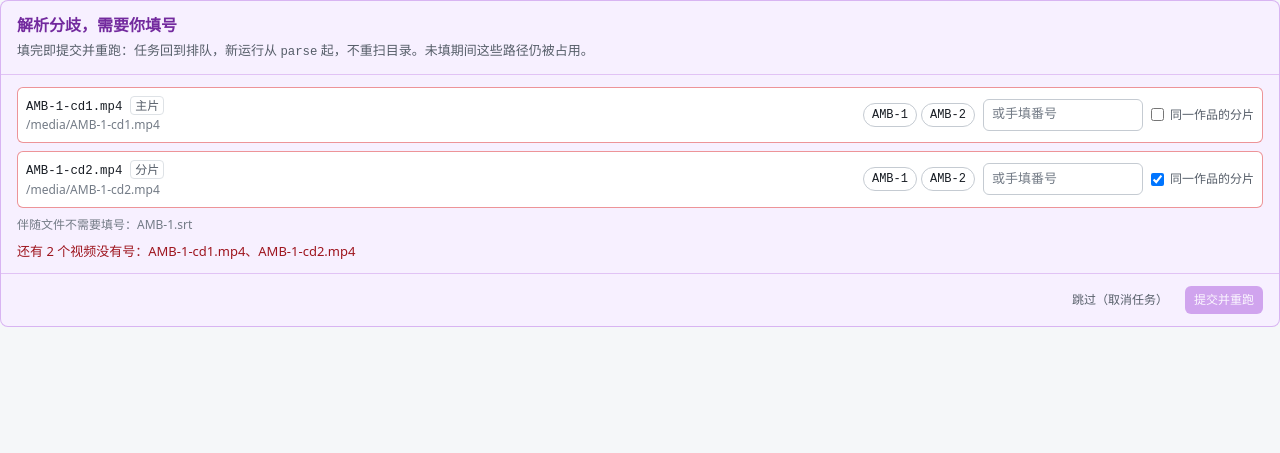
Test: NumberFillPanel › marks the rows a 422 says are still missing, and explains the failure
Type "AMB-1" into the field with placeholder "或手填番号" in the row of "/media/AMB-1-cd1.mp4" at (1063, 115), box [983,99,1143,131]
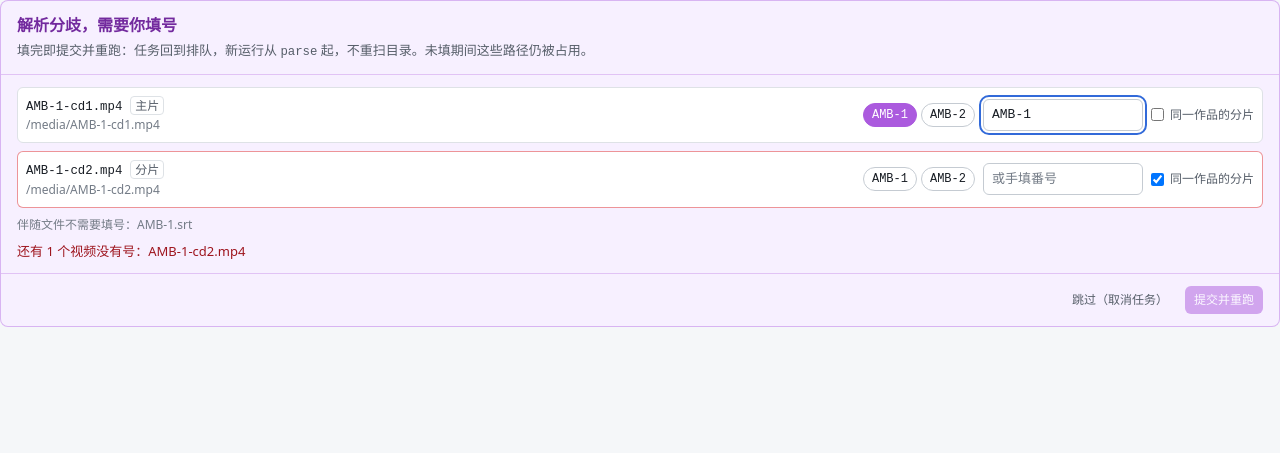
Type "AMB-1" into the field with placeholder "或手填番号" at (1063, 179), box [983,163,1143,195]
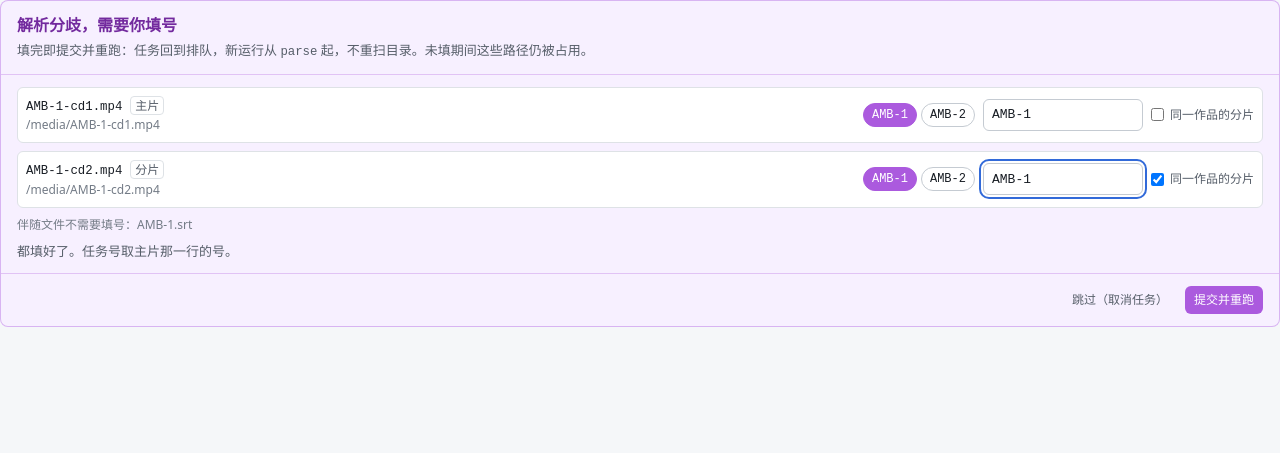
Click the button "提交并重跑" at (1224, 300), box [1185,286,1263,314]
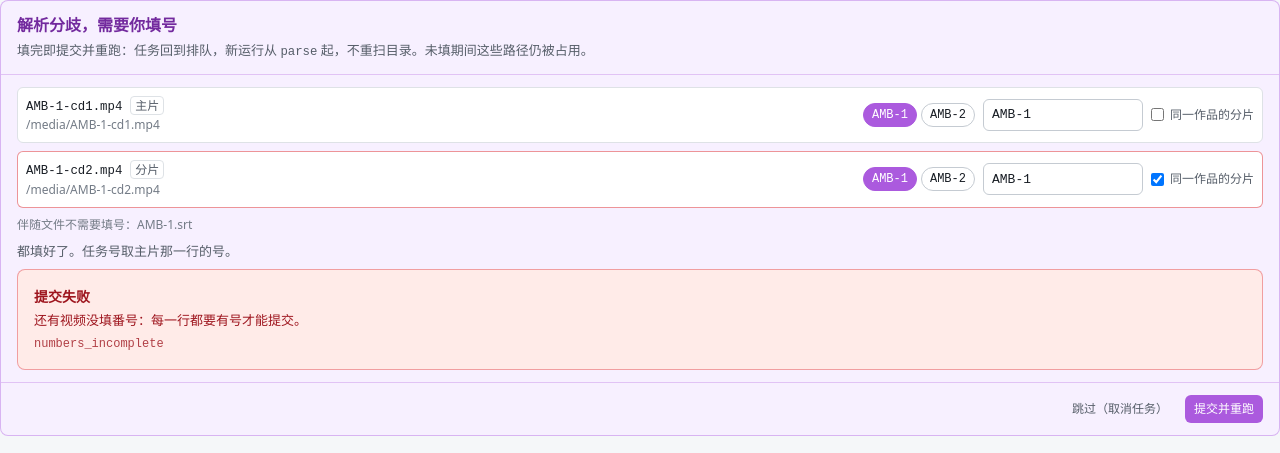
Now the message shows "还有视频没填番号", box [34,311,307,329]
